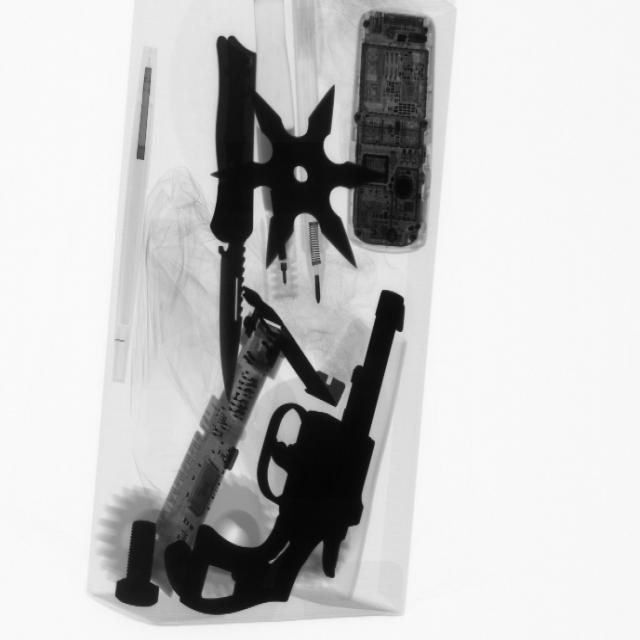GUN: (195, 289, 408, 625)
KNIFE: (198, 38, 268, 388)
SHURIKEN: (249, 73, 383, 277)
